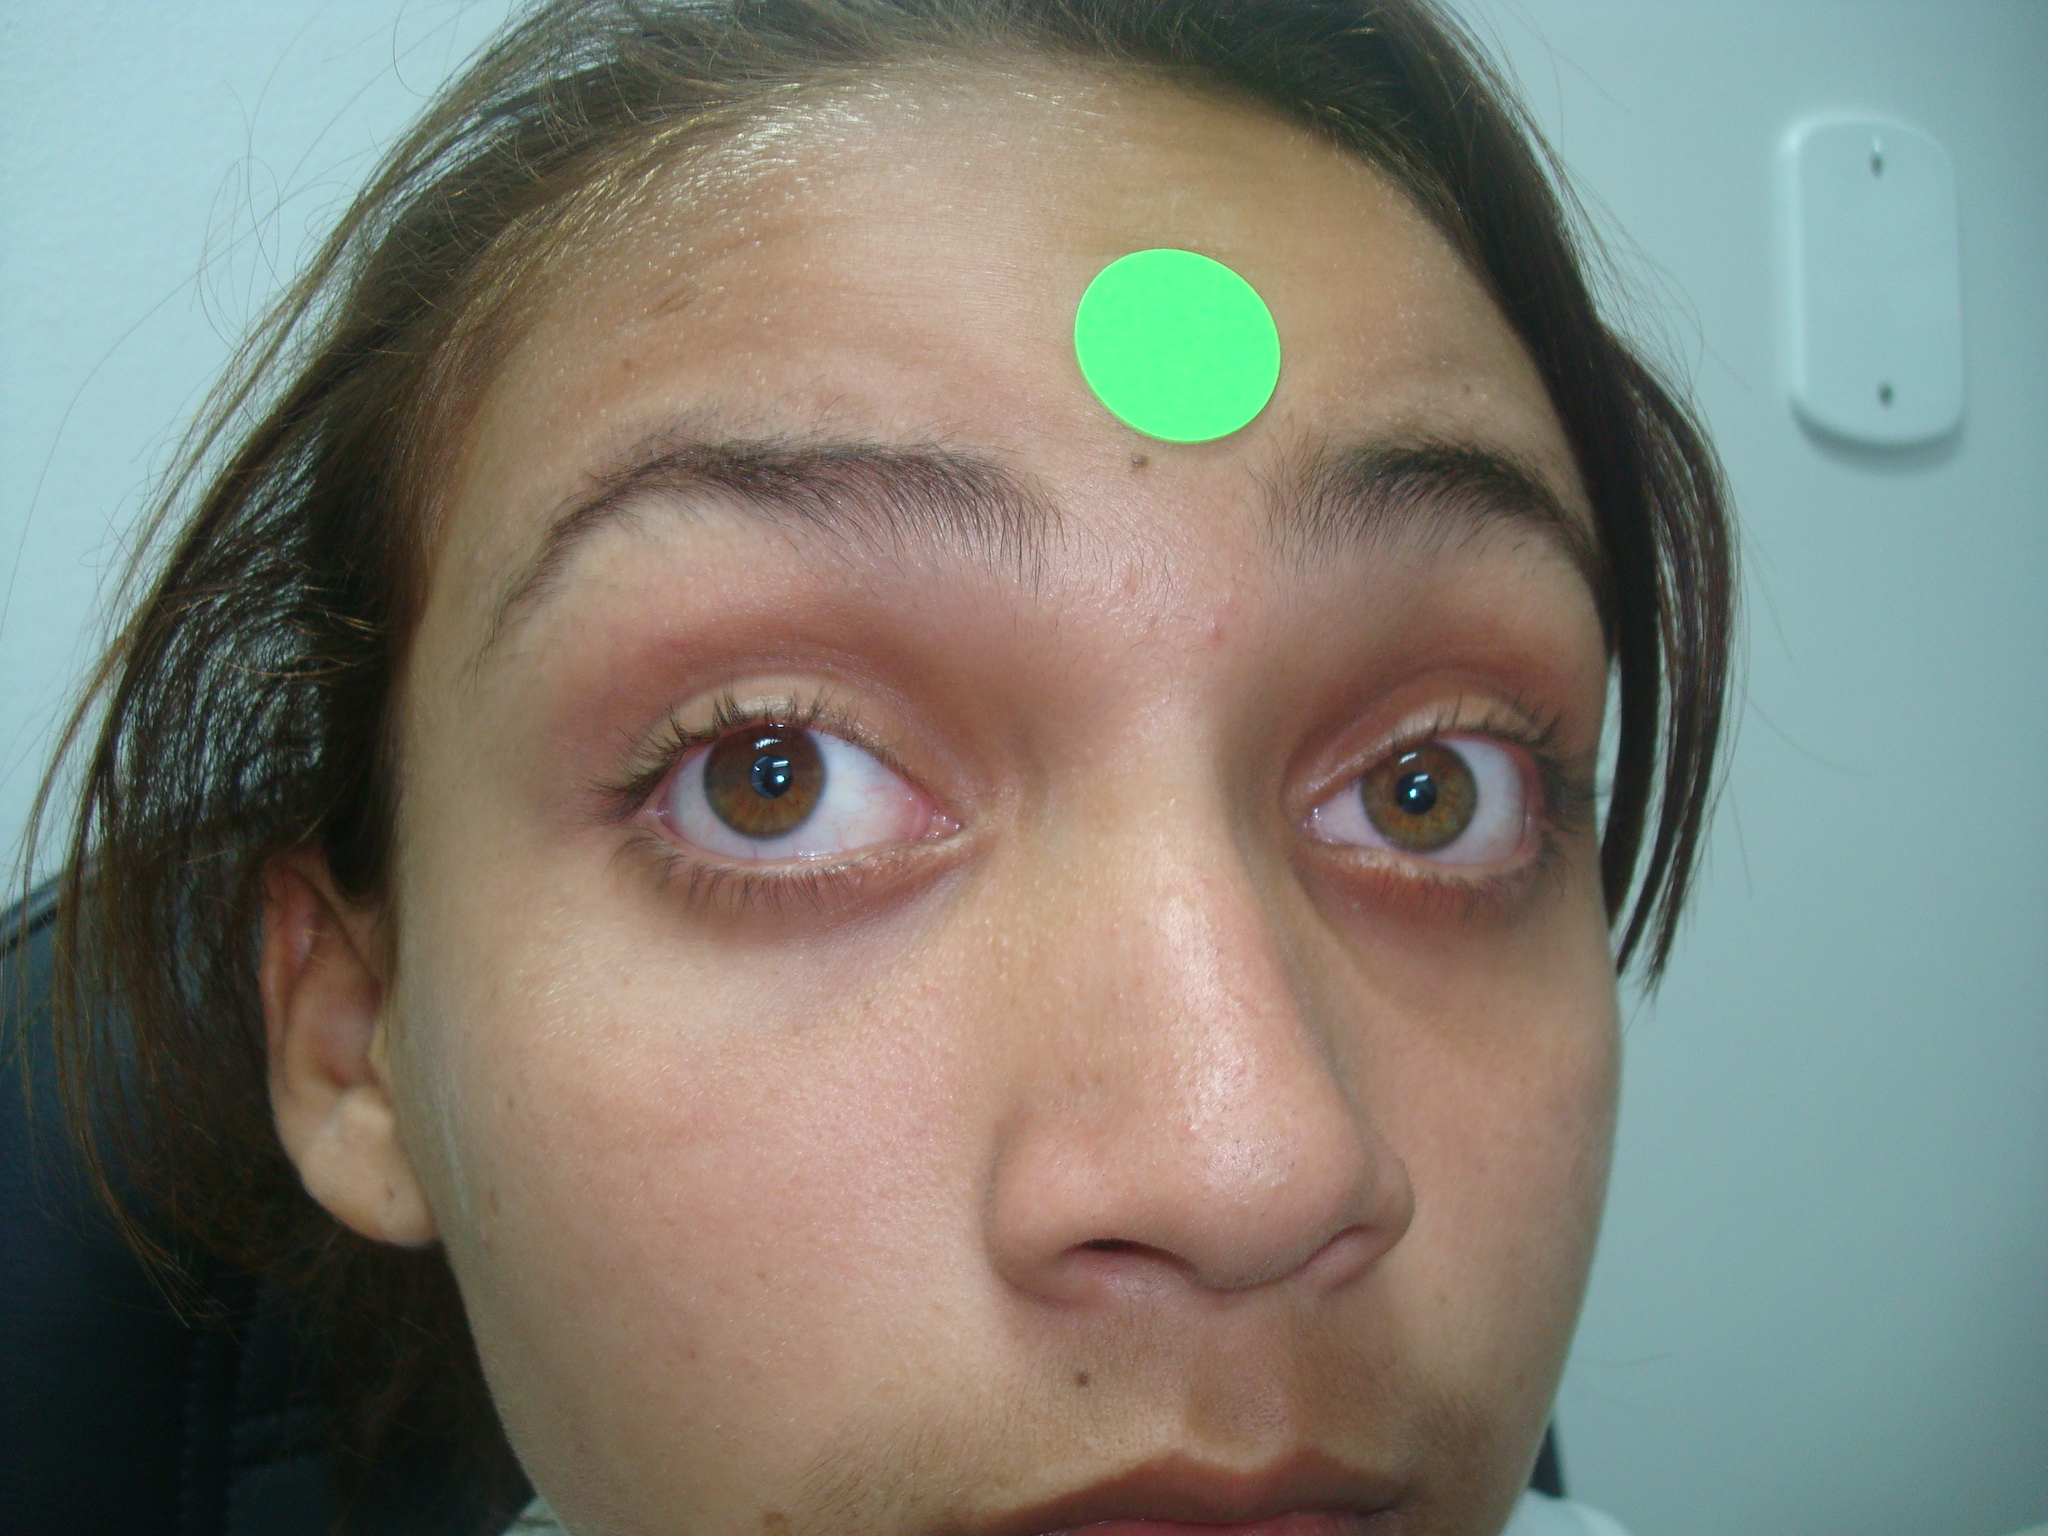flash: (769, 768, 792, 789), (1405, 783, 1421, 802)
limbo: (703, 715, 837, 839), (1355, 736, 1477, 852)
